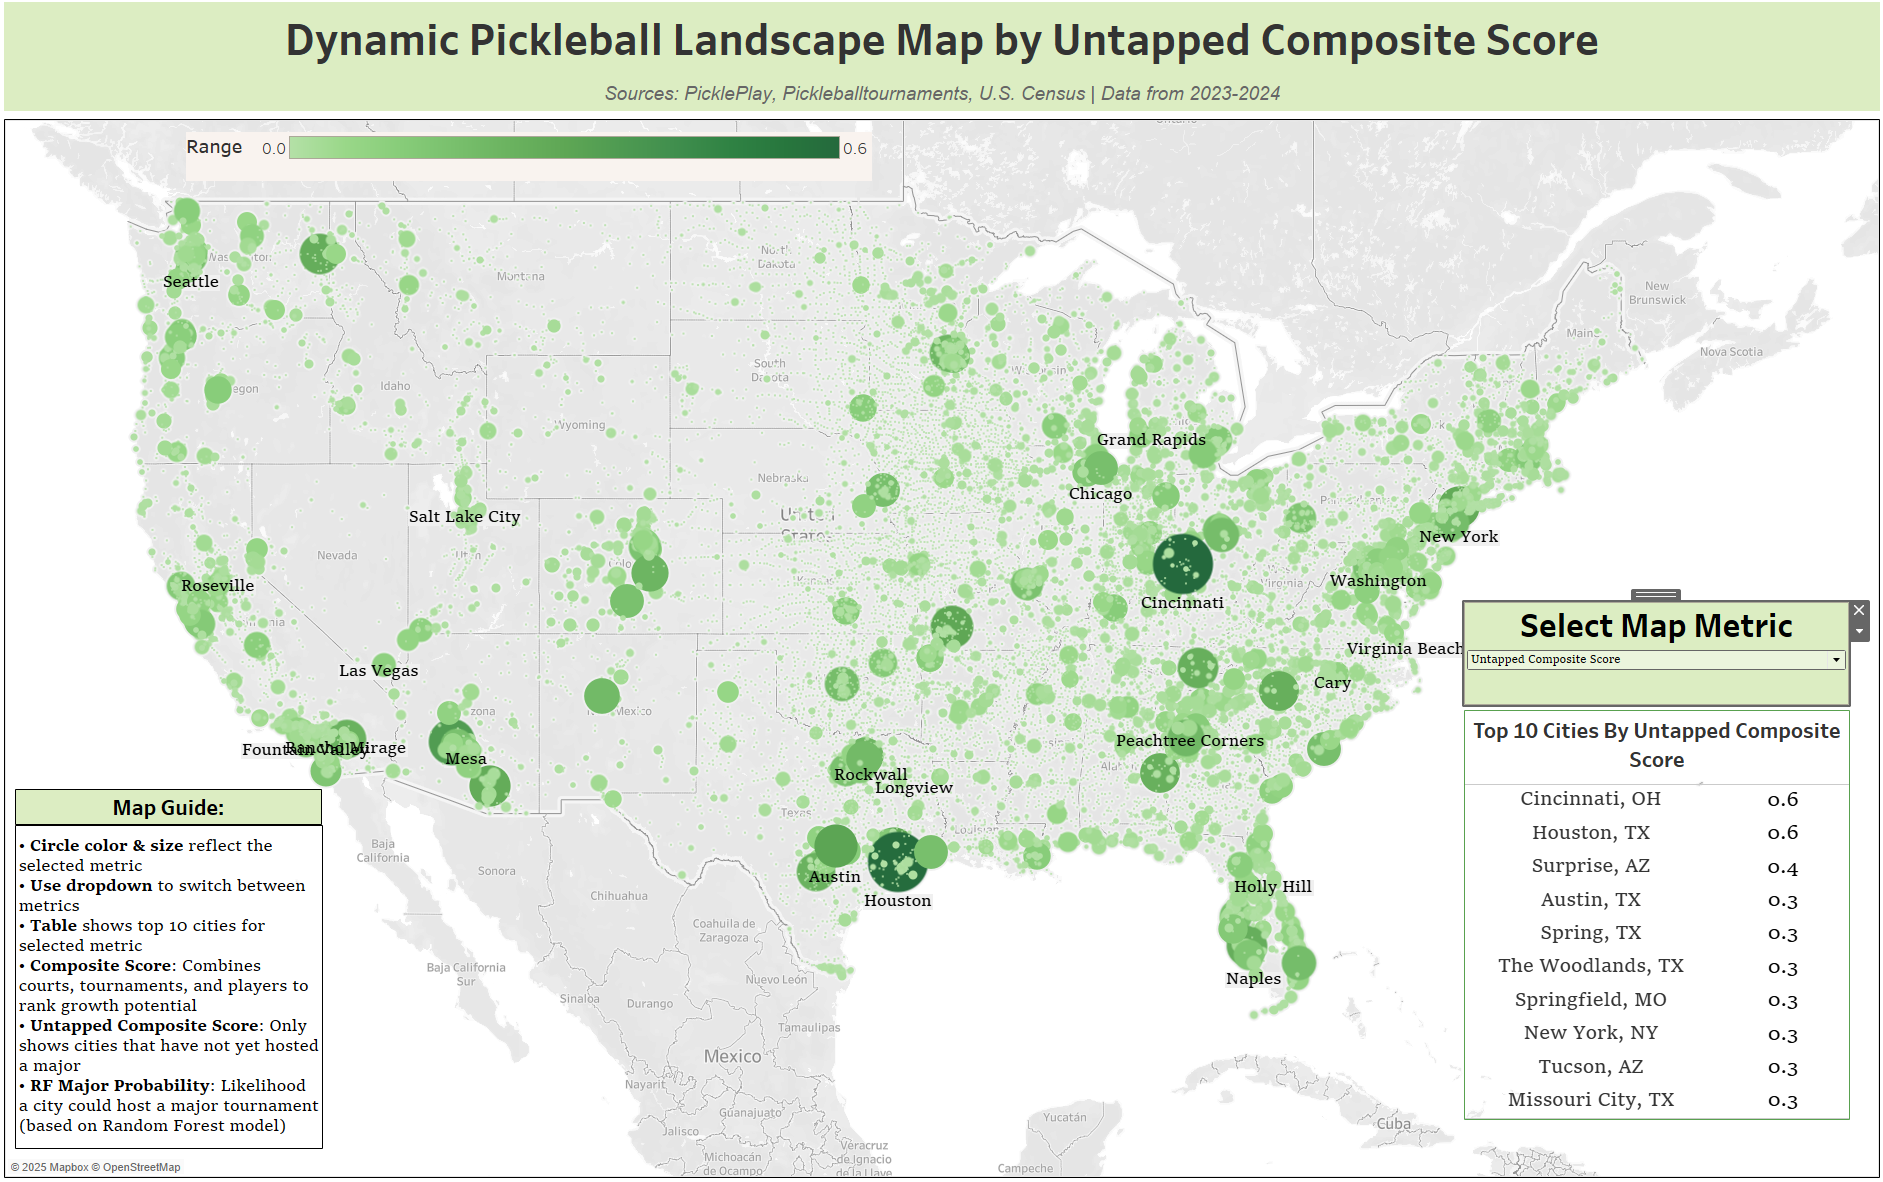

This screenshot's page, from the dashboard's own definition file:
{"tool":"tableau","page":{"name":"Pickleball Dynamic Overview Map","canvas":[1900,1200],"ordinal":0},"visuals":[{"type":"text","box":[8,8,1884,116.9]},{"type":"worksheet","title":"Dynamic Pickleball Landscape Map","mark":"Automatic","box":[8,124.9,1884,1067.1]},{"type":"legend","title":"Dynamic Pickleball Landscape Map","param":"[federated.1uroyys0okk61s14kenbh1t98qae].[avg:Calculation_2274880825338425361:qk","box":[194,141.8,686,49.1]},{"type":"parameter","param":"[Parameters].[Parameter 2]","box":[1472,612,385,103]},{"type":"worksheet","title":"Top 10","mark":"Automatic","rows":["city_state"],"box":[1472,720,386,410]},{"type":"text","box":[23,799,307,36]},{"type":"text","box":[23,835,308,324]}]}

Visuals, with their boxes in screenshot pixels (x1, y1, x2, y2), scaled from the page's 1900x1200 canvas onto the 1883x1182 screenshot:
text: rect(8, 8, 1875, 123)
"Dynamic Pickleball Landscape Map" worksheet: rect(8, 123, 1875, 1174)
"Dynamic Pickleball Landscape Map" legend: rect(192, 140, 872, 188)
parameter: rect(1459, 603, 1840, 704)
"Top 10" worksheet: rect(1459, 709, 1841, 1113)
text: rect(23, 787, 327, 822)
text: rect(23, 822, 328, 1142)
